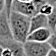cell: (19, 36, 31, 47), (33, 41, 43, 54), (45, 26, 56, 37), (16, 14, 27, 24), (1, 21, 9, 33)
